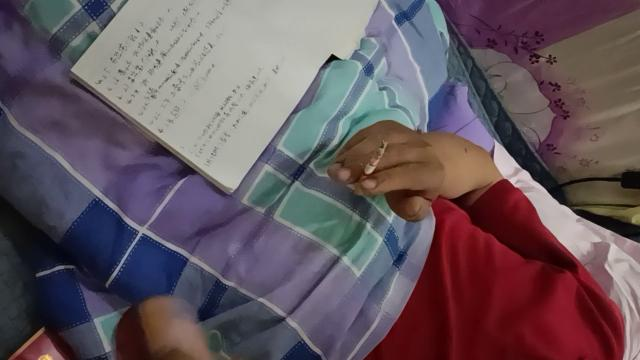Cigarette: (354, 140, 388, 196)
